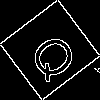Q: (25, 25, 87, 86)
